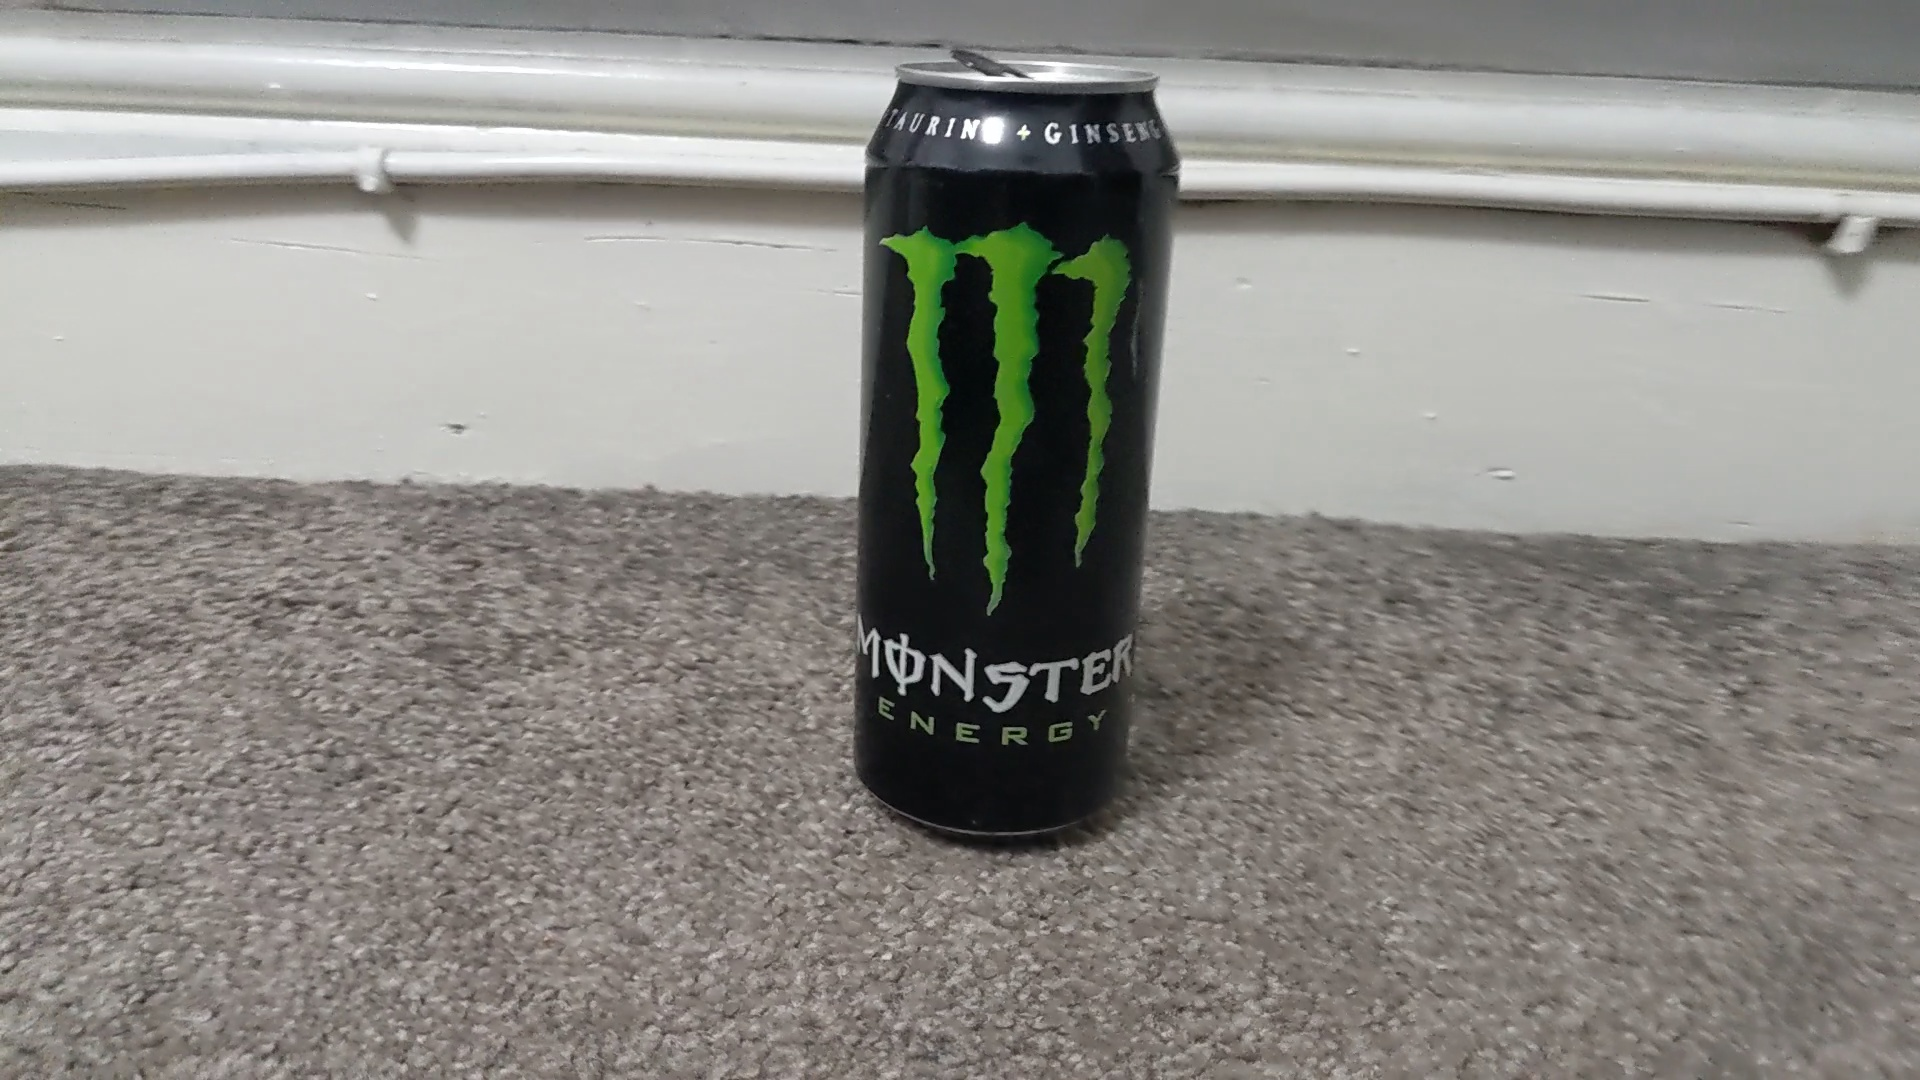monster-original: (852, 55, 1182, 840)
